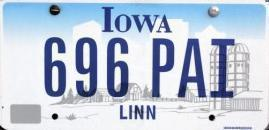placa de veiculo: (5, 1, 263, 127)
